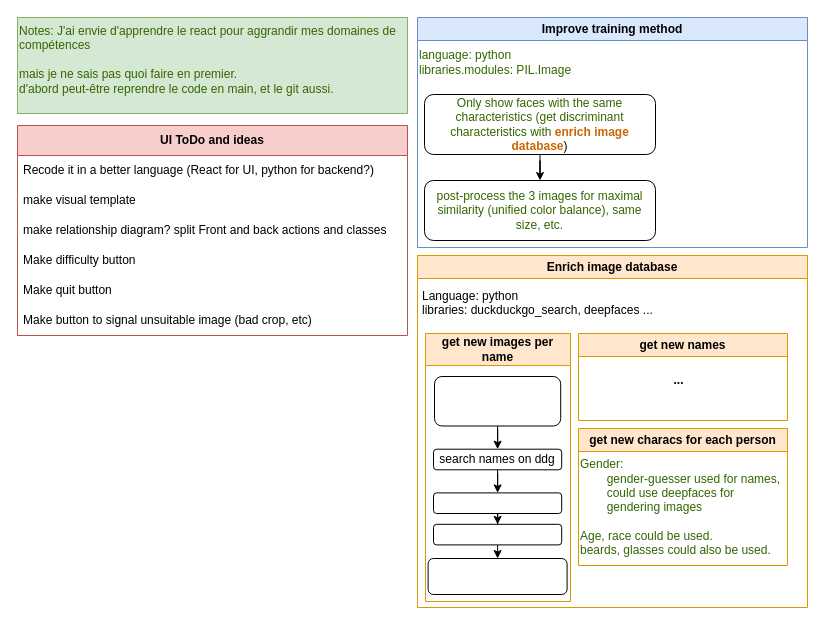
The diagram is 825 pixels wide and 625 high, and some of its shapes have lost their labels. Each missing label, with the centre of its shape:
"Cut out faces" belongs at point 497,534.
"Parse names in lfw_cut (base dataset)" belongs at point 497,401.
"Put faces in new folder in name_gender subfolder" belongs at point 497,576.
"Return X first images" belongs at point 497,503.
